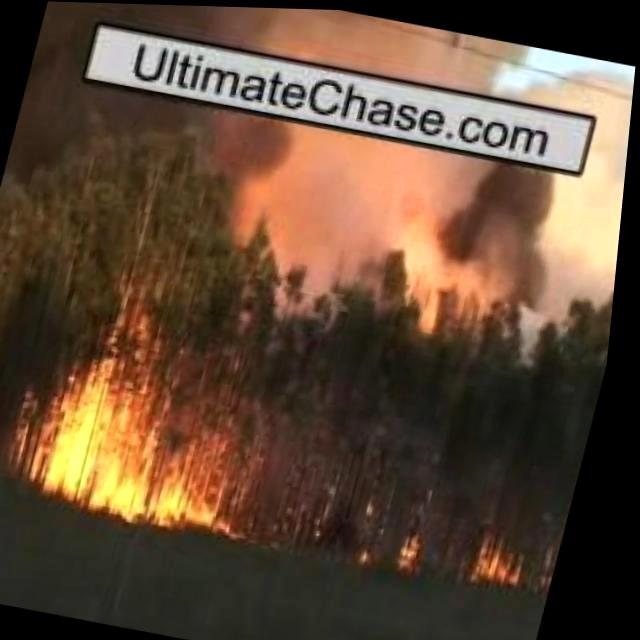fire: (44, 354, 268, 534), (478, 527, 546, 589), (399, 523, 445, 569)
